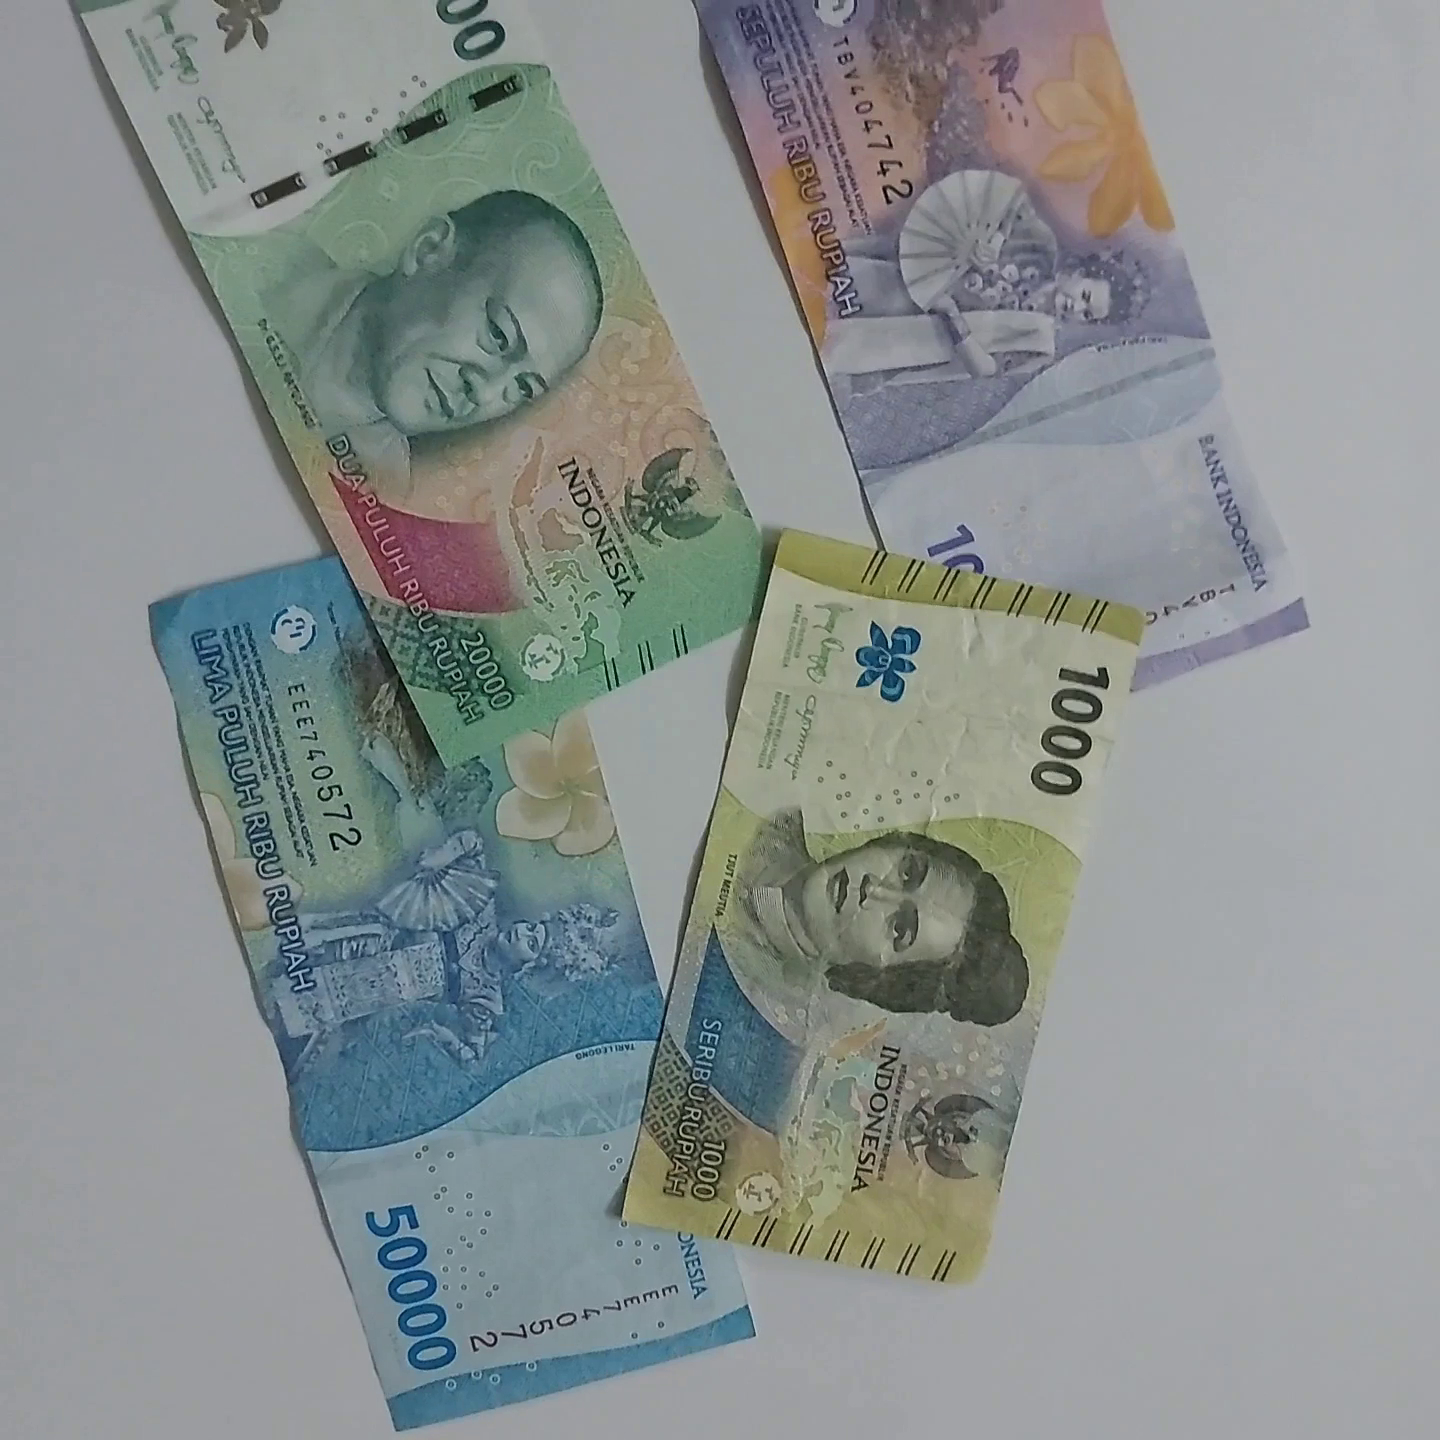10k: (691, 0, 1353, 703)
1k: (786, 476, 1212, 1261)
20k: (0, 0, 761, 694)
50k: (153, 526, 769, 1437)
